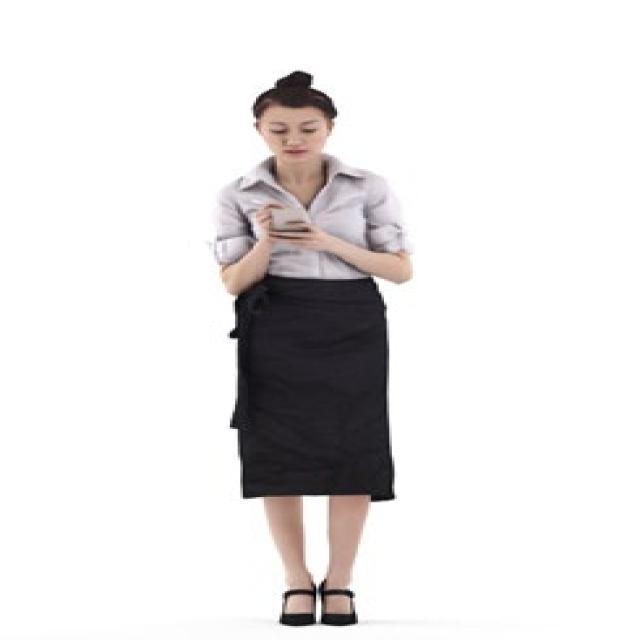standing: (211, 69, 417, 631)
